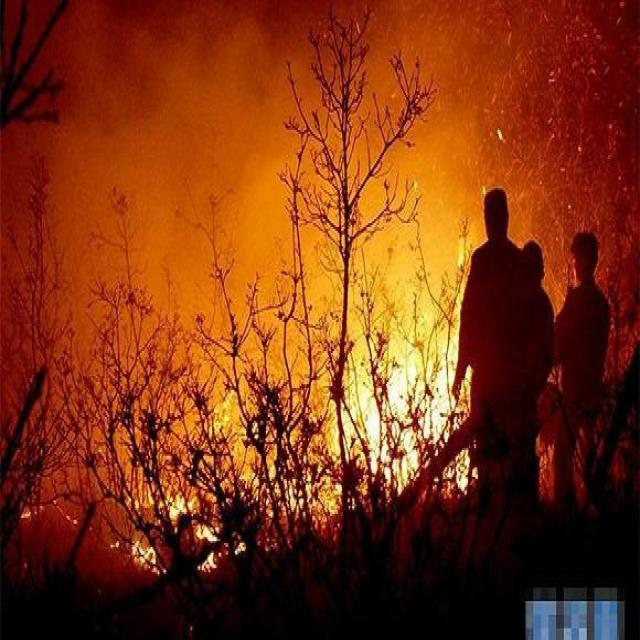fire: (114, 377, 321, 580), (325, 262, 484, 518)
